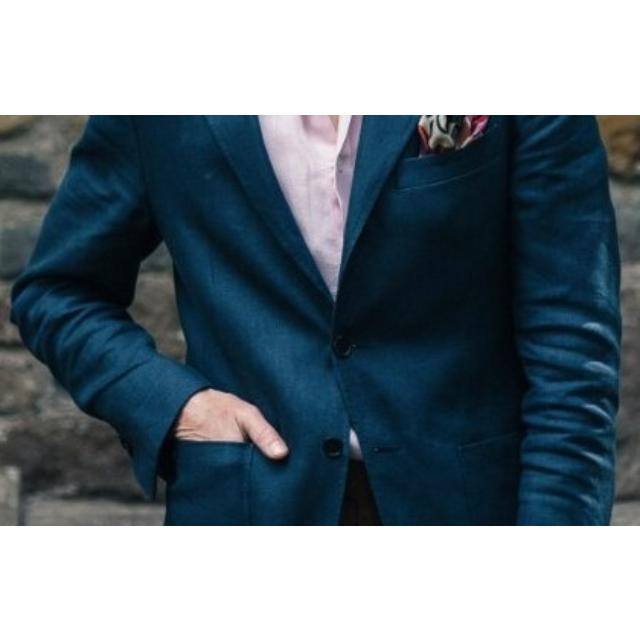linen: (25, 114, 628, 526)
